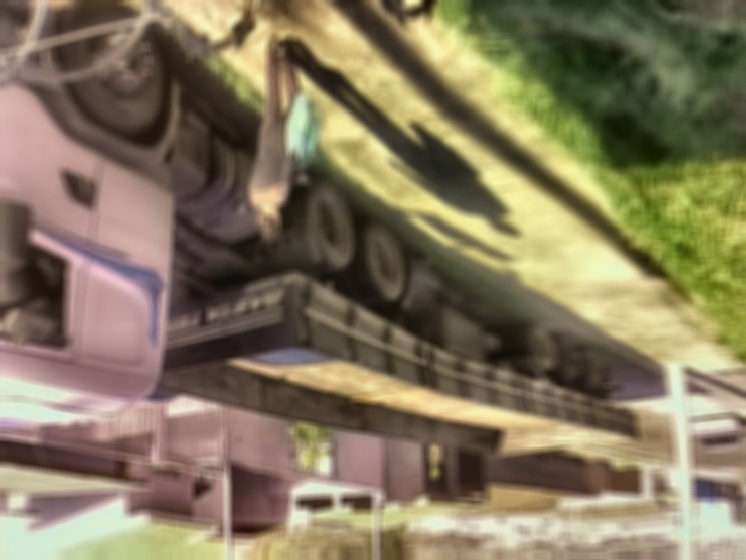person: (247, 34, 311, 245)
